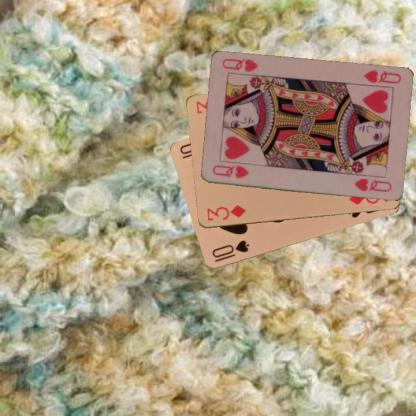10s: (209, 238, 251, 264)
3d: (204, 202, 247, 223)
Qh: (209, 162, 250, 180), (361, 68, 402, 86)
